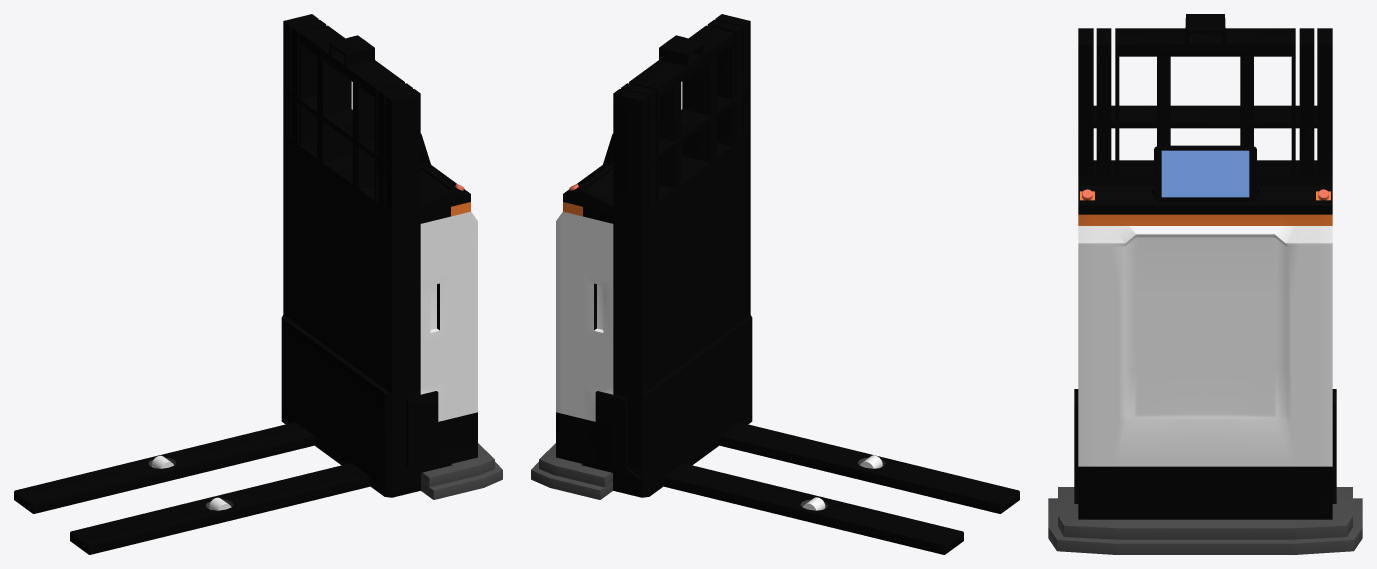
Rendered from agv.glb.
3 views of the same model, side by side, from view 1: azimuth 30°, elevation 25°; view 2: azimuth 150°, elevation 25°; view 3: azimuth 270°, elevation 25° (orthographic). The views are drawn at different scales.
Parts seen in each view (by area): view 1: 机体; view 2: 机体; view 3: 机体, 电脑.
Boxes of the visible parts, left/top/right/bottom form: 机体: left=14, top=14, right=502, bottom=554; 机体: left=531, top=14, right=1019, bottom=554; 机体: left=1048, top=14, right=1362, bottom=554; 电脑: left=1154, top=145, right=1256, bottom=201.
Size of the model in its own units: 4.2 by 4.17 by 2.47.
